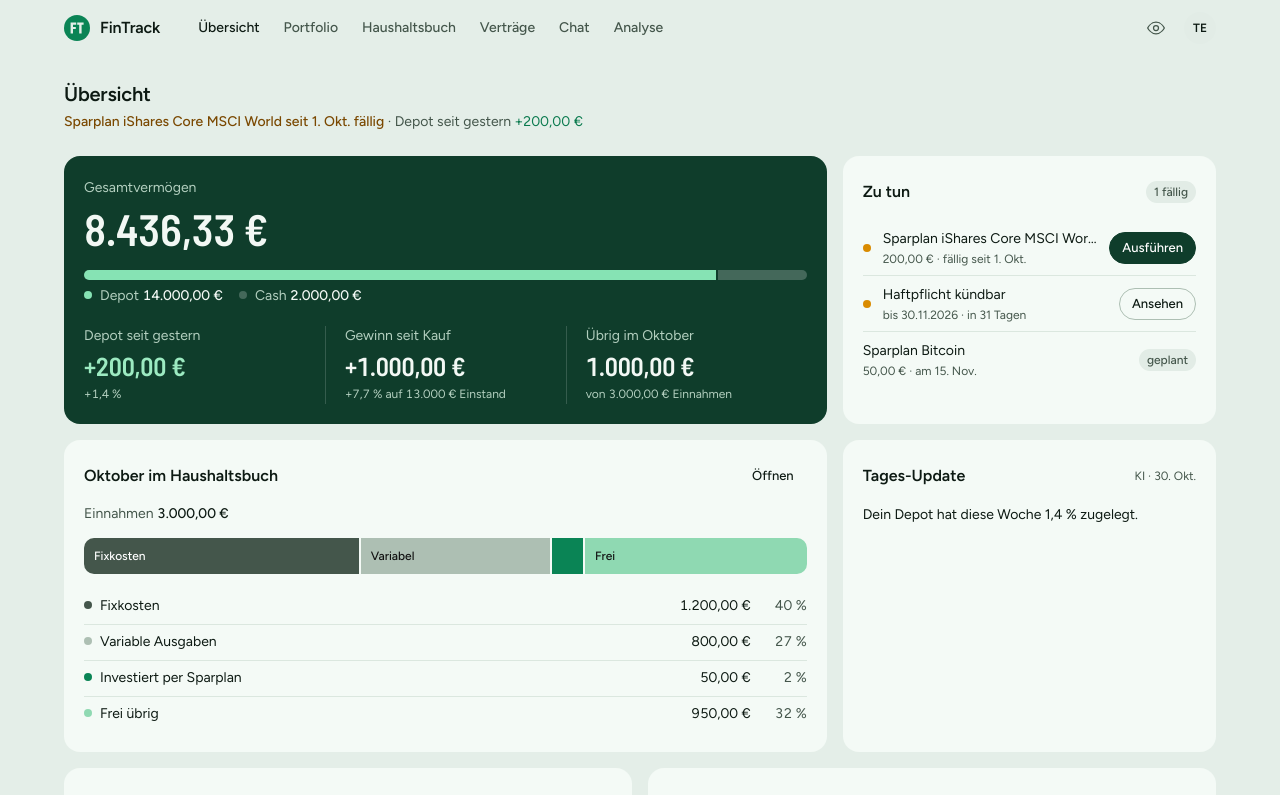
Scenario: Übersicht › führt einen fälligen Sparplan aus und lädt neu
Click the button with aria-label "Sparplan iShares Core MSCI World ausführen" at [1153, 248], box x1=1109 y1=232 x2=1196 y2=264
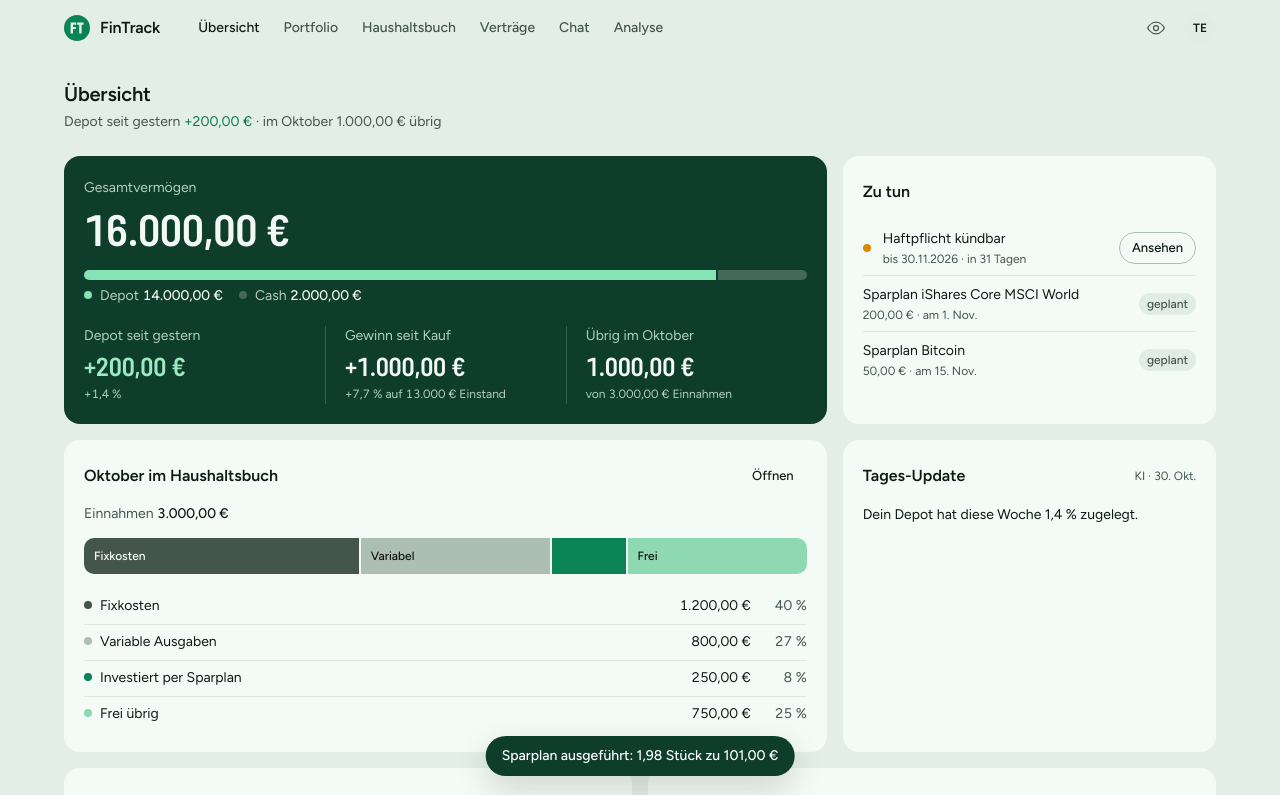
Expected: the text "Sparplan ausgeführt: 1,98 Stück zu 101,00 €" is shown, x1=486 y1=736 x2=794 y2=776
Expected: the text "1 fällig" is gone
